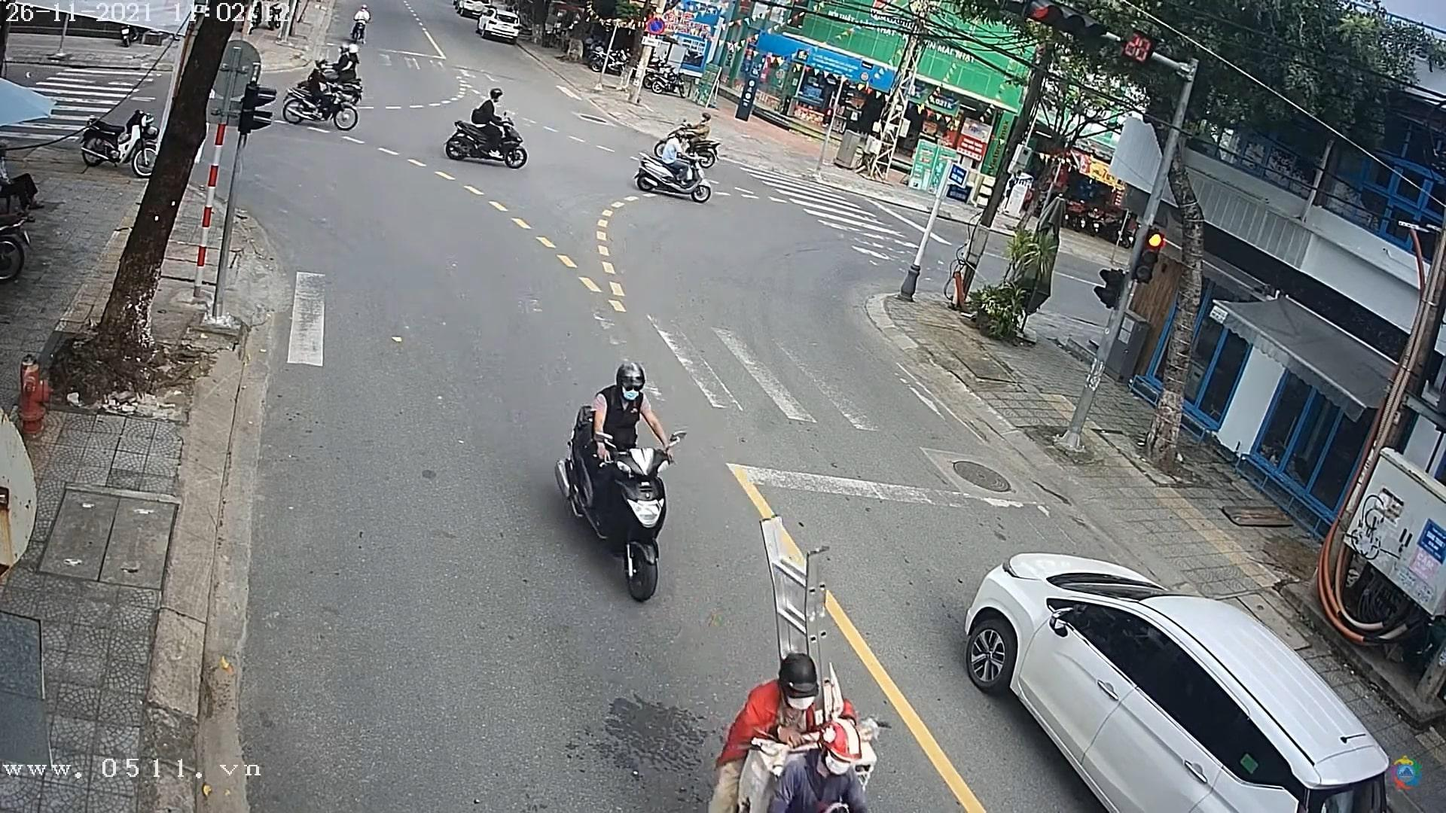car: (964, 548, 1399, 812)
motorbike: (556, 356, 689, 609), (447, 89, 531, 170), (281, 57, 359, 136), (635, 129, 713, 205)
